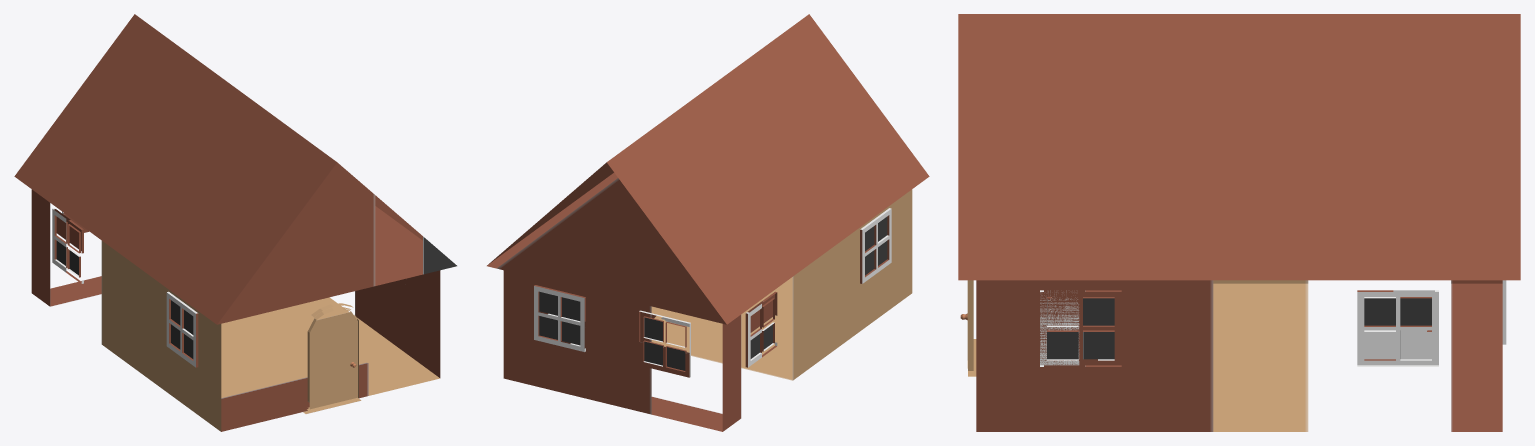
Rendered from houseBlender.fbx.
The picture shows the model from 3 angles, left to right: view 1: azimuth 30°, elevation 25°; view 2: azimuth 150°, elevation 25°; view 3: azimuth 270°, elevation 25°; orthographic projection. The views are drawn at different scales.
Visible parts, largest first — view 1: Cube; view 2: Cube; view 3: Cube.
Boxes of the visible parts, <box> form: Cube: <box>14,14,456,431</box>; Cube: <box>487,14,929,431</box>; Cube: <box>958,14,1520,431</box>.
Size of the model in its own units: 2.2 by 2.16 by 3.21.
